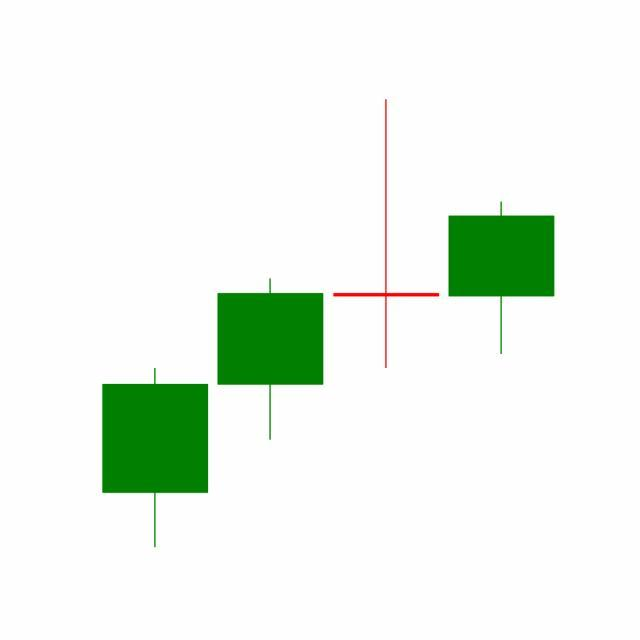Spinning Top: (329, 97, 445, 372)
